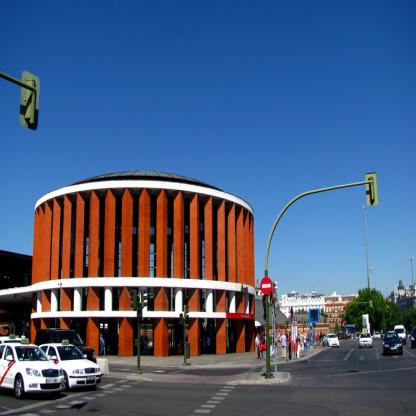Car: (1, 337, 65, 400), (31, 340, 104, 392), (34, 328, 98, 362), (384, 333, 403, 358), (1, 335, 30, 346), (398, 323, 410, 340), (361, 331, 372, 349), (324, 334, 340, 346), (374, 333, 382, 343), (361, 333, 368, 344), (413, 329, 416, 349)
